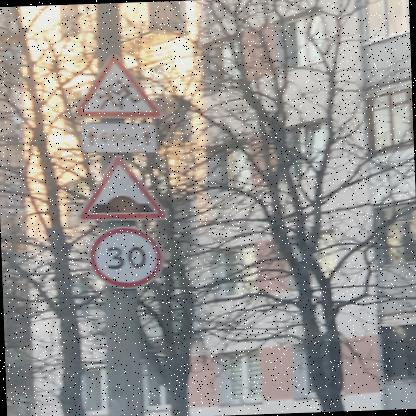speedlimit: (86, 224, 160, 288)
